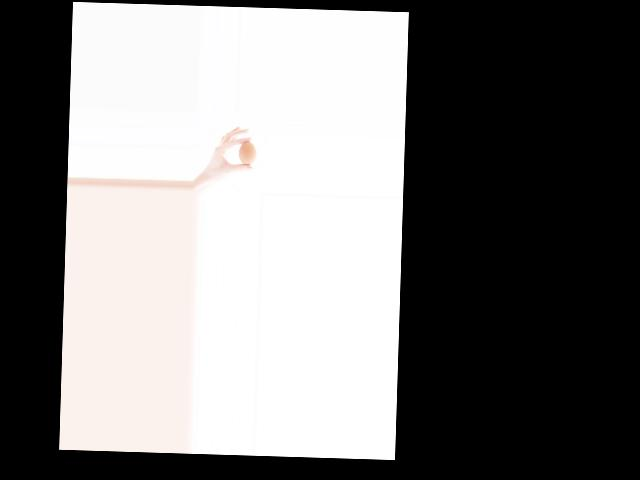egg: (239, 141, 257, 165)
